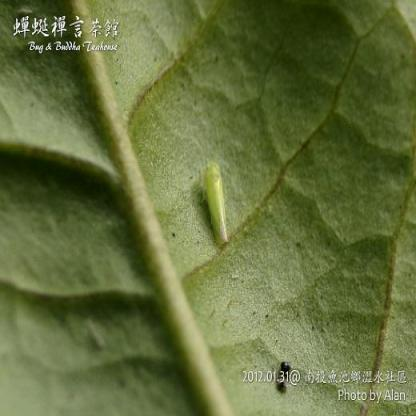Green-Leafhopper: (198, 156, 236, 252)
